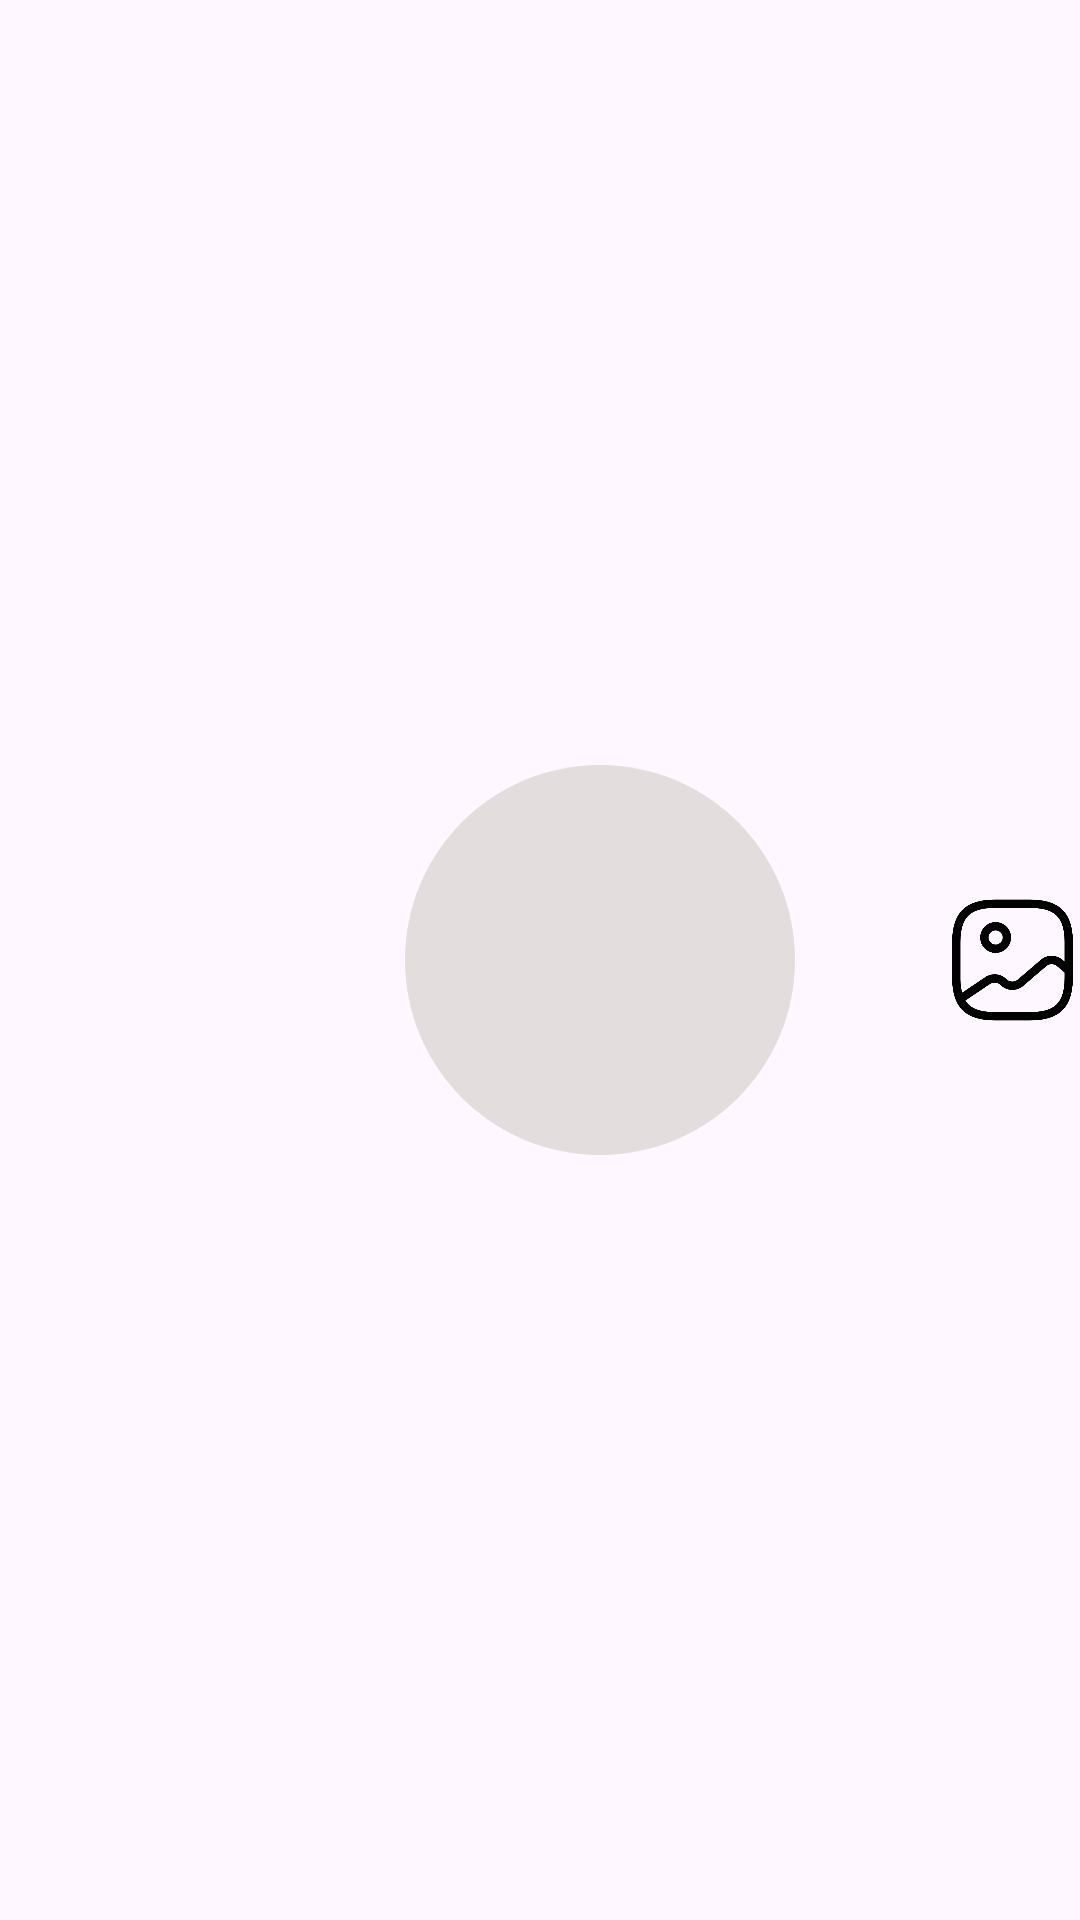

Icon click points for this 1080px×1920px phone screenshot, format (x=x, y=y):
gallery: (x=1012, y=960)
